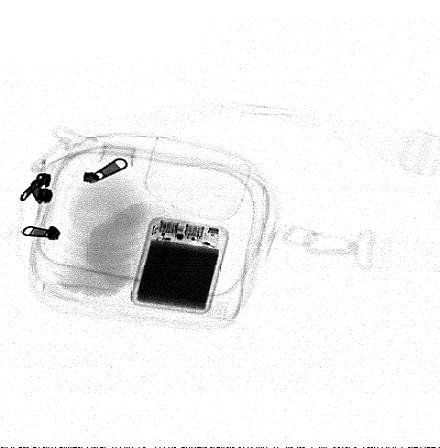Powerbank: (129, 216, 229, 315)
